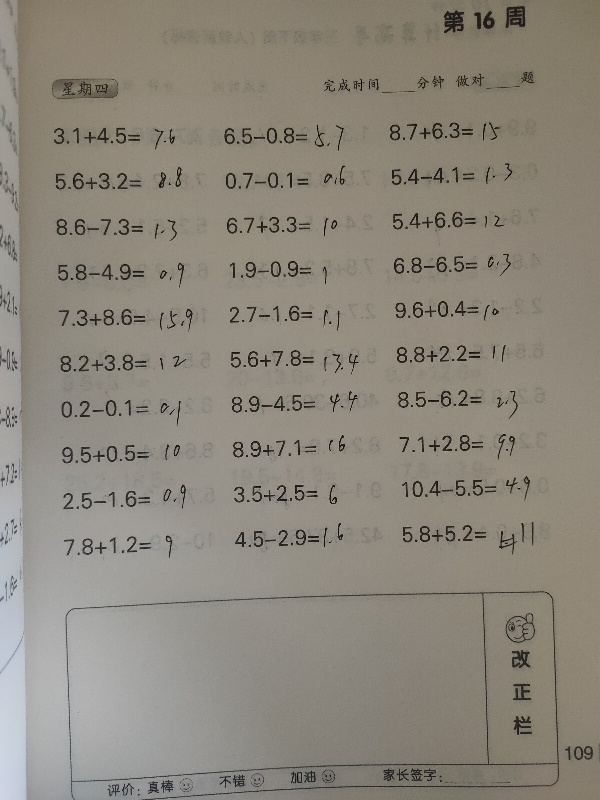equation: (395, 468, 548, 509), (392, 379, 529, 424), (219, 117, 352, 161), (47, 161, 196, 200), (398, 519, 538, 559), (221, 385, 368, 423), (52, 256, 189, 295), (225, 344, 367, 381), (43, 119, 187, 155), (48, 211, 189, 247), (49, 393, 189, 429), (229, 519, 361, 556), (393, 431, 533, 464), (227, 477, 344, 515), (223, 300, 356, 333), (56, 305, 197, 336), (219, 165, 353, 196), (59, 482, 189, 512), (390, 250, 515, 280), (53, 440, 185, 468), (387, 161, 515, 189), (60, 532, 177, 561), (56, 350, 189, 374), (222, 212, 341, 238), (225, 255, 331, 284), (386, 119, 504, 145), (392, 340, 509, 366), (228, 434, 348, 459), (391, 296, 502, 323), (388, 207, 507, 232)
